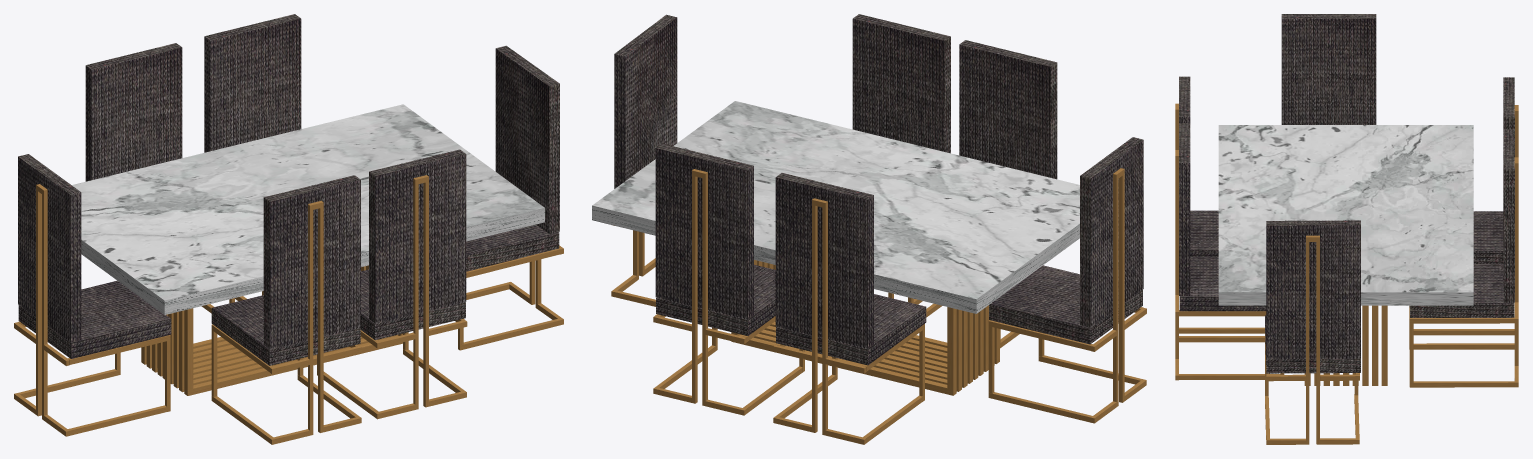
Rendered from dining_set_modern.glb.
3 views of the same model, side by side, from view 1: azimuth 30°, elevation 25°; view 2: azimuth 150°, elevation 25°; view 3: azimuth 270°, elevation 25° (orthographic). The views are drawn at different scales.
Visible parts, largest first — view 1: Cube.015_black_0, Cube.009_Top_0, Cube_Base_0; view 2: Cube.015_black_0, Cube.009_Top_0, Cube_Base_0; view 3: Cube.009_Top_0, Cube.015_black_0, Cube_Base_0.
Boxes of the visible parts, box(x1,y1,x2,y2) form: Cube.015_black_0: box(18, 14, 559, 365); Cube.009_Top_0: box(72, 104, 544, 314); Cube_Base_0: box(14, 175, 563, 444); Cube.015_black_0: box(614, 14, 1143, 365); Cube.009_Top_0: box(592, 101, 1079, 313); Cube_Base_0: box(611, 168, 1146, 444); Cube.009_Top_0: box(1218, 125, 1473, 305); Cube.015_black_0: box(1179, 14, 1514, 373); Cube_Base_0: box(1175, 103, 1518, 444).
Size of the model in its own units: 2.4 by 1.14 by 1.62.
Materials: 3 (3 with a texture image).
